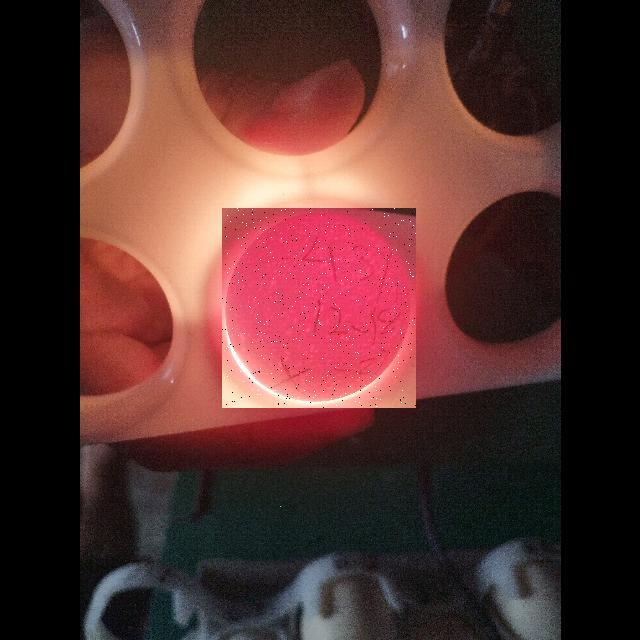Infertile: (222, 208, 416, 408)
